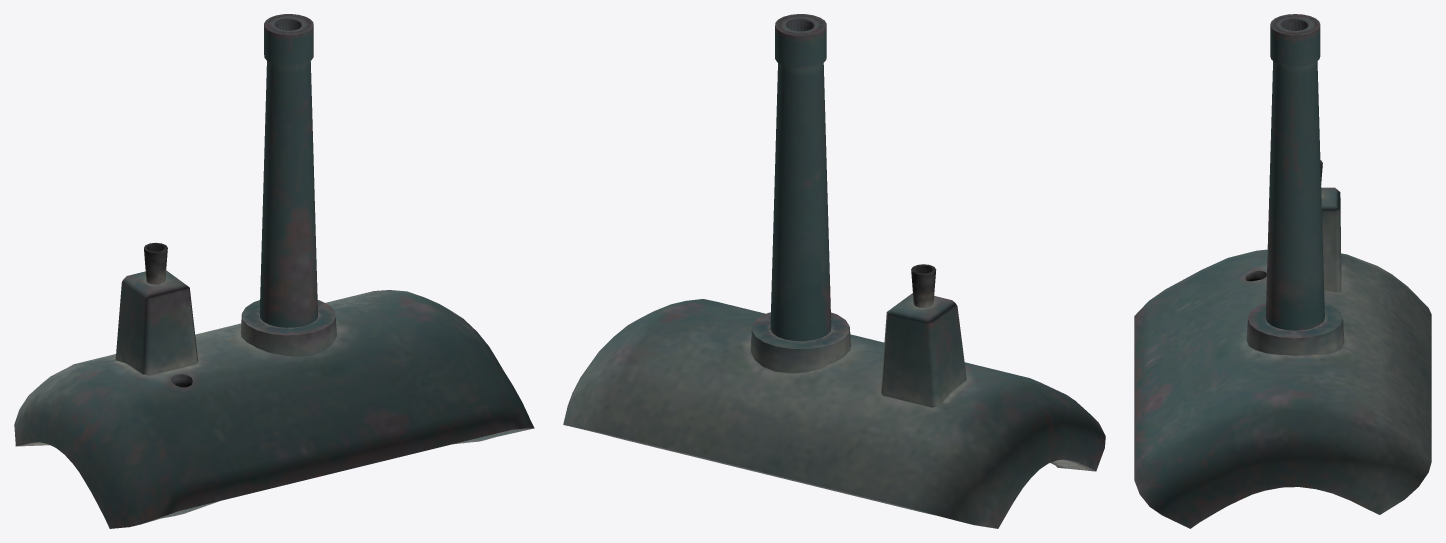
Rendered from Gun_01.glb.
3 renders of one model, left to right at view 1: azimuth 30°, elevation 25°; view 2: azimuth 150°, elevation 25°; view 3: azimuth 270°, elevation 25°, orthographic. The views are drawn at different scales.
Visible parts, largest first — view 1: set_0_group_0; view 2: set_0_group_0; view 3: set_0_group_0.
Part boxes in pixels (x1,y1,x2,y2): set_0_group_0: [14, 14, 534, 528]; set_0_group_0: [563, 14, 1105, 528]; set_0_group_0: [1134, 14, 1431, 528].
Bounding box in the file's own units: 0.8904 × 0.8445 × 0.5467.
Materials: 1 (1 with a texture image).
